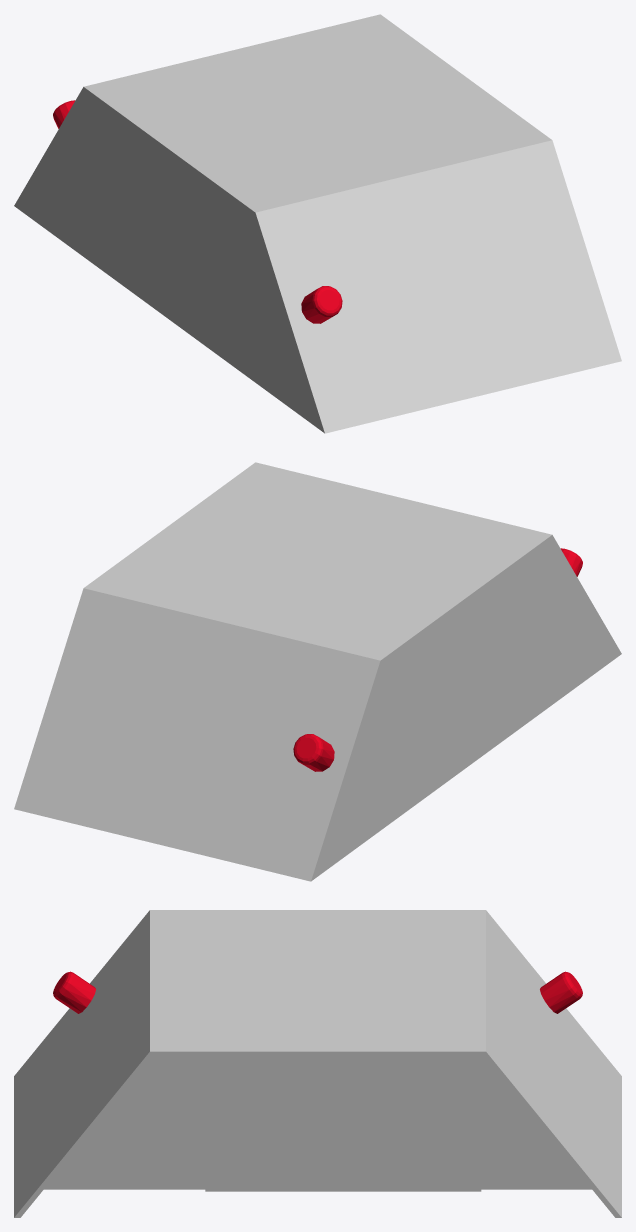
File: raw_tower_symetric.dae
3 views of the same model, one above another, from view 1: azimuth 30°, elevation 25°; view 2: azimuth 150°, elevation 25°; view 3: azimuth 270°, elevation 25° (orthographic). The views are drawn at different scales.
Parts seen in each view (by area): view 1: Raw_Tower_Symetric; view 2: Raw_Tower_Symetric; view 3: Raw_Tower_Symetric.
Boxes of the visible parts, bbox=[...] form: Raw_Tower_Symetric: bbox=[14, 14, 621, 433]; Raw_Tower_Symetric: bbox=[14, 462, 621, 881]; Raw_Tower_Symetric: bbox=[14, 910, 621, 1217].
Bounding box in the file's own units: 0.316 × 0.5733 × 0.173.
